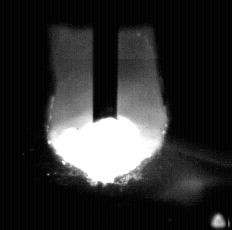arame: (94, 0, 118, 123)
poca: (49, 0, 163, 230)
